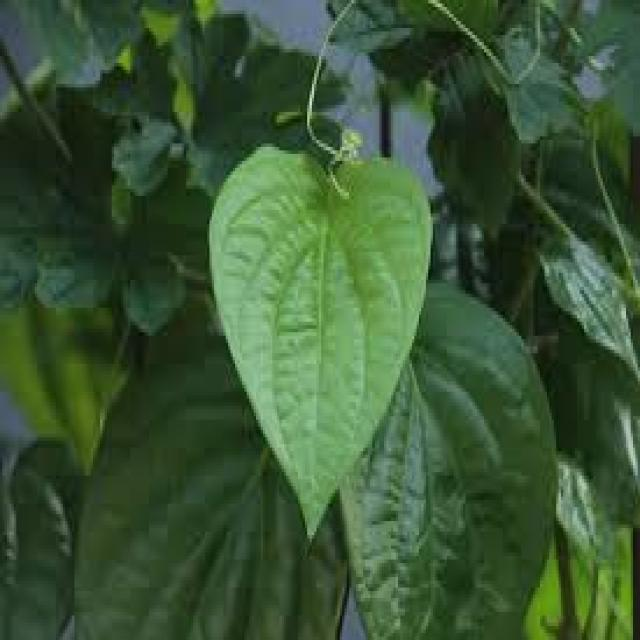healthy_leaf: (92, 342, 561, 632), (204, 130, 436, 550), (429, 26, 630, 328), (17, 16, 195, 307)
